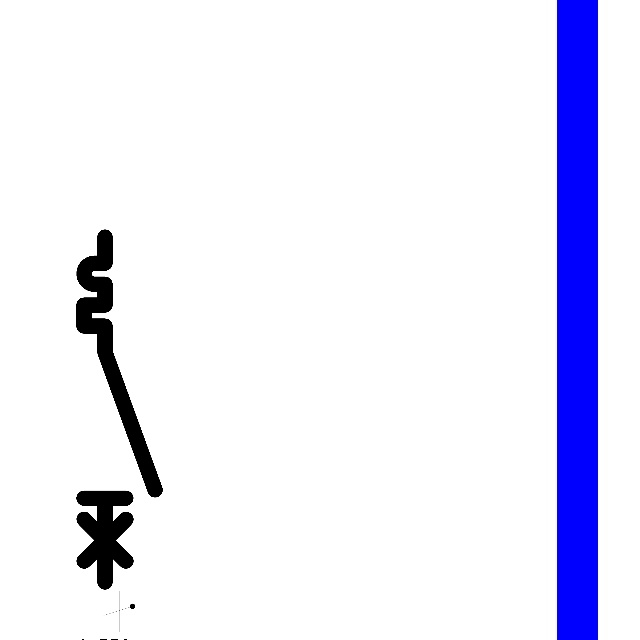interruptor_termomagnetico: (75, 228, 163, 590)
